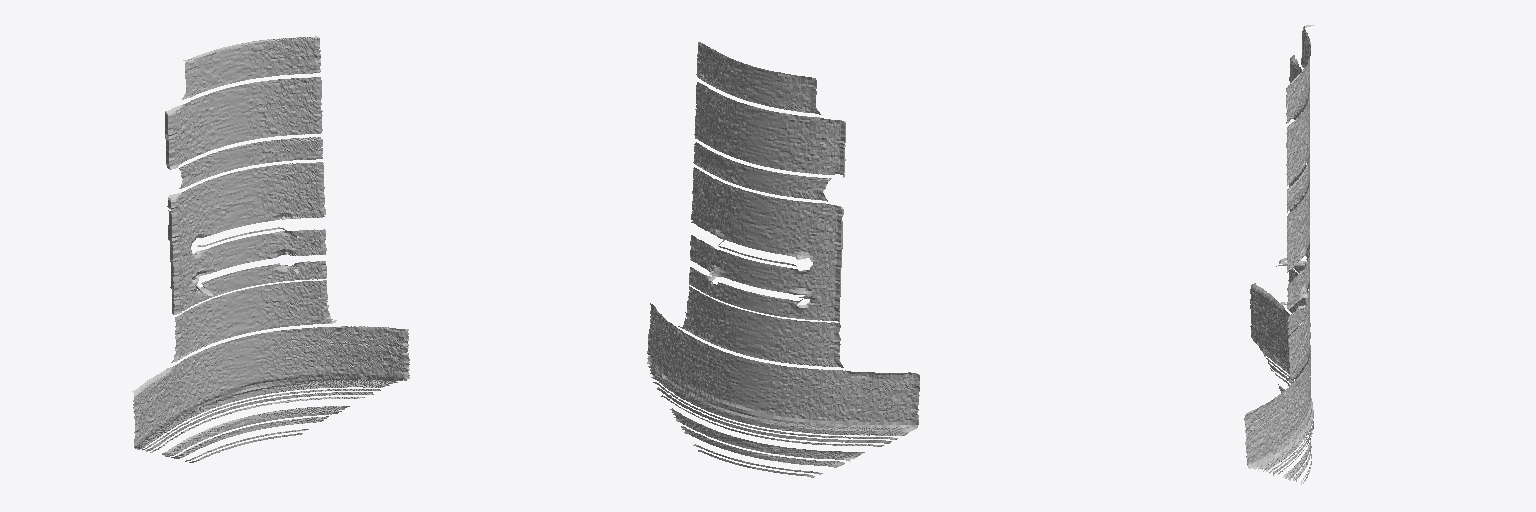
The model's file is real_scan_1.obj.
3 views of the same model, side by side, from view 1: azimuth 30°, elevation 25°; view 2: azimuth 150°, elevation 25°; view 3: azimuth 270°, elevation 25° (orthographic).
Parts seen in each view (by area): view 1: real_scan; view 2: real_scan; view 3: real_scan.
Boxes of the visible parts, box(x1,y1,x2,y2) form: real_scan: box(132, 36, 409, 462); real_scan: box(647, 42, 919, 477); real_scan: box(1244, 25, 1313, 484).
Size of the model in its own units: 117 by 163 by 26.24.